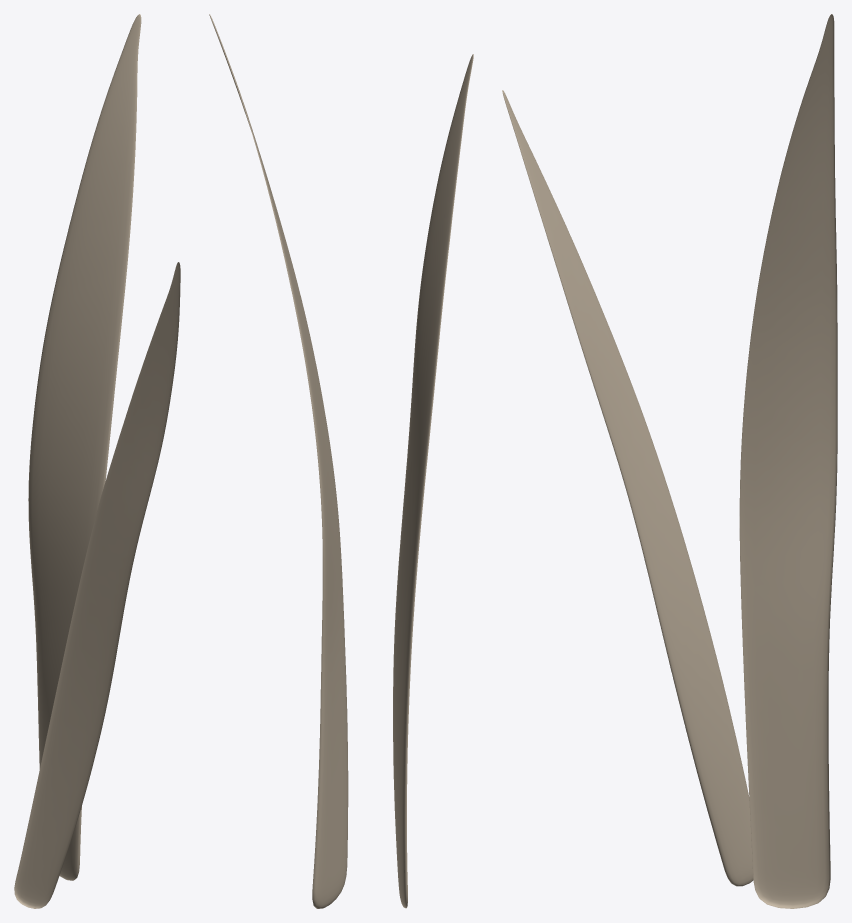
File: 3dcodebench_SnakePlant_seed0.glb
The picture shows the model from 3 angles, left to right: view 1: azimuth 30°, elevation 25°; view 2: azimuth 150°, elevation 25°; view 3: azimuth 270°, elevation 25°; orthographic projection. The views are drawn at different scales.
Parts seen in each view (by area): view 1: object; view 2: object; view 3: object.
Part boxes in pixels (x1,y1,x2,y2): object: (14,14,180,908); object: (209,14,473,908); object: (502,14,837,908).
Bounding box in the file's own units: 0.2677 × 1.36 × 0.4328.
